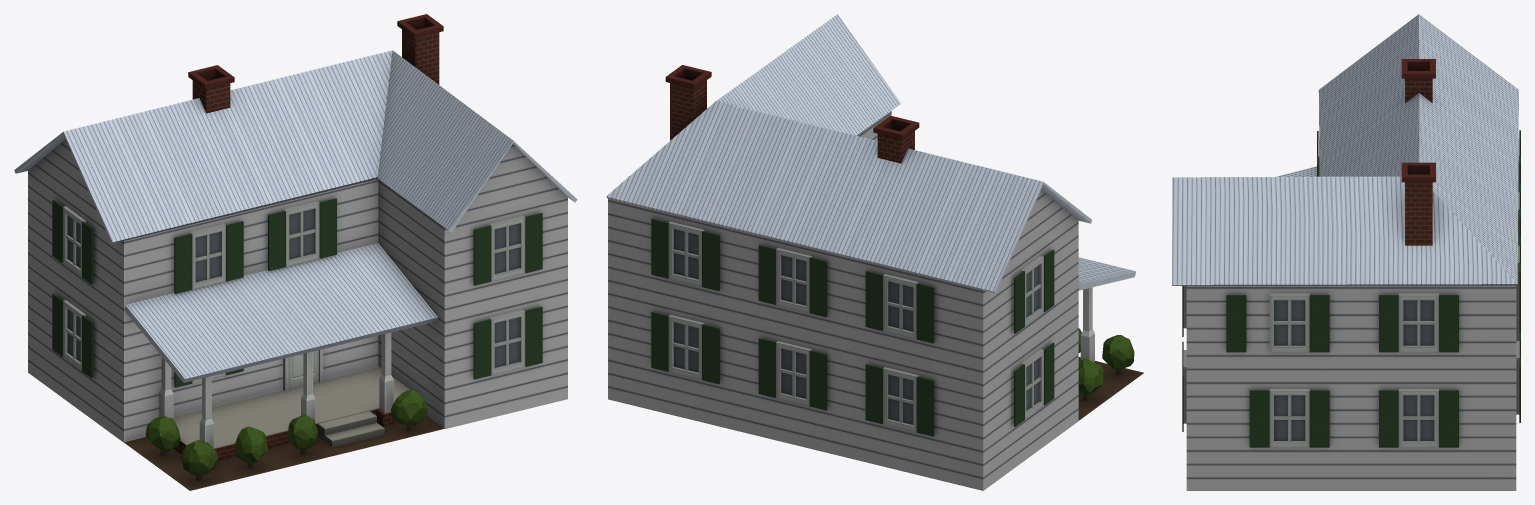
File: FarmHouse.glb
3 renders of one model, left to right at view 1: azimuth 30°, elevation 25°; view 2: azimuth 150°, elevation 25°; view 3: azimuth 270°, elevation 25°, orthographic. The views are drawn at different scales.
Visible parts, largest first — view 1: FarmHouse_Mesh; view 2: FarmHouse_Mesh; view 3: FarmHouse_Mesh.
Part boxes in pixels (x1,y1,x2,y2): FarmHouse_Mesh: (14, 14, 577, 490); FarmHouse_Mesh: (606, 14, 1143, 490); FarmHouse_Mesh: (1172, 14, 1520, 490).
Bounding box in the file's own units: 25.34 × 18.43 × 19.12.
1 material, 1 textured.
